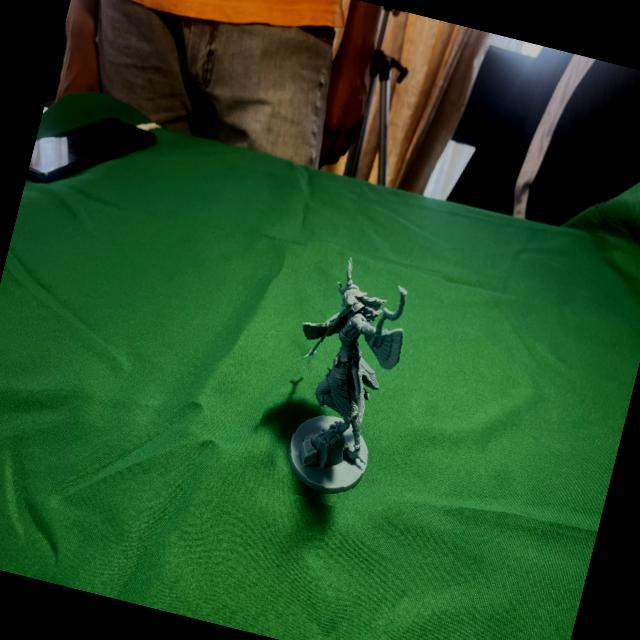isis: (244, 236, 445, 518)
